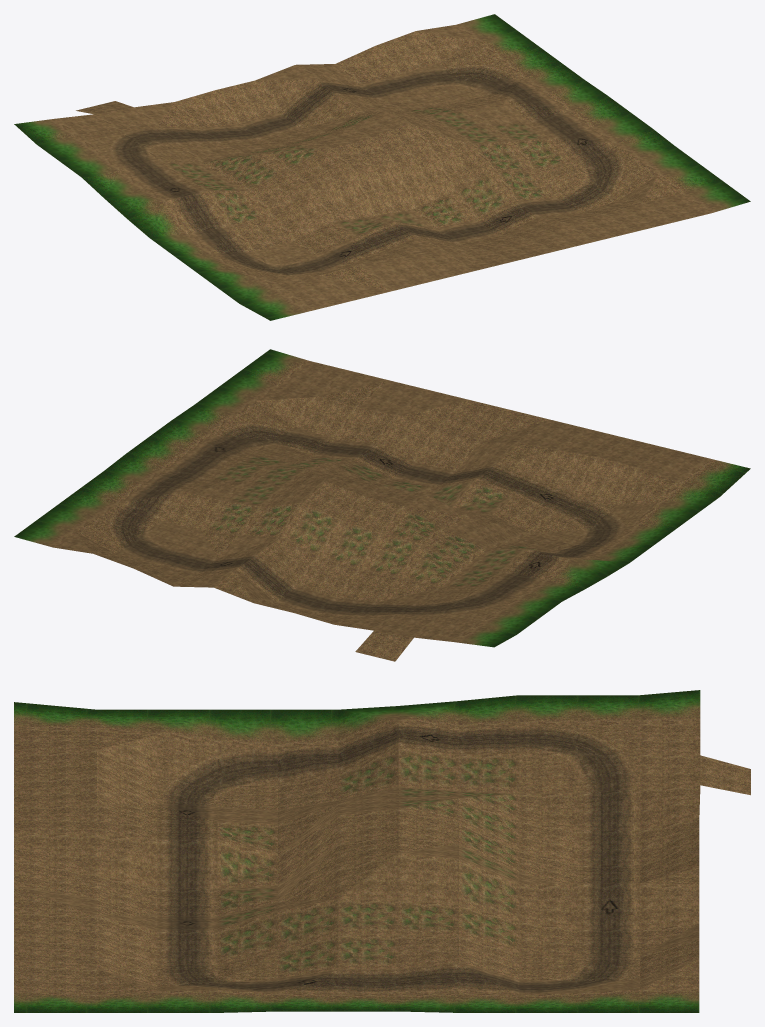
The model's file is dirt.glb.
3 renders of one model, top to bottom at view 1: azimuth 30°, elevation 25°; view 2: azimuth 150°, elevation 25°; view 3: azimuth 270°, elevation 25°, orthographic. The views are drawn at different scales.
Parts seen in each view (by area): view 1: dirt; view 2: dirt; view 3: dirt.
Boxes of the visible parts, x1=… form: dirt: x1=14, y1=14, x2=750, y2=320; dirt: x1=14, y1=349, x2=750, y2=661; dirt: x1=14, y1=690, x2=750, y2=1012.
Size of the model in its own units: 10538 by 1013 by 10463.
8 materials, 8 textured.
